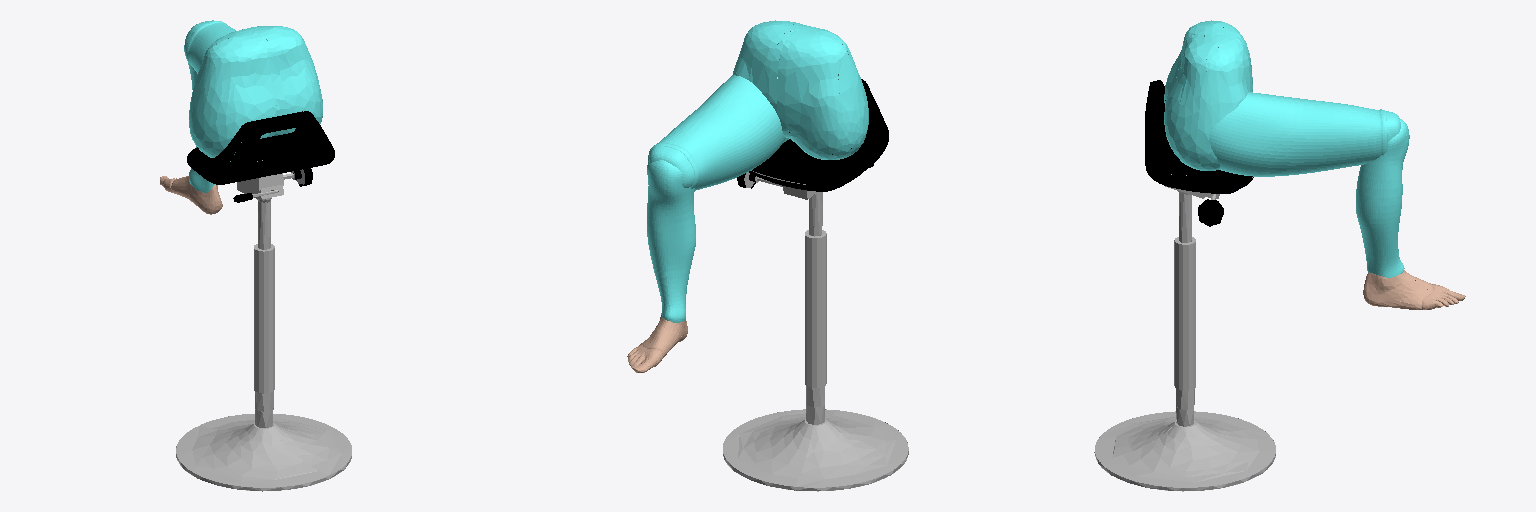
The robot description file, URDF, robot "leg_as_robot":
<?xml version="1.0" ?>
<!-- =================================================================================== -->
<!-- |    This document was autogenerated by xacro from leg.create.xacro               | -->
<!-- |    EDITING THIS FILE BY HAND IS NOT RECOMMENDED                                 | -->
<!-- =================================================================================== -->
<robot name="leg_as_robot" xmlns:xacro="http://www.ros.org/wiki/xacro">
  <!--[kg] -->
  <!-- r8_leg_foot_tip [m]-->
  <!-- [m]-->
  <!-- [m]-->
  <link name="virtual_platform_base_link"/>
  <link name="hip_base_link">
    <visual>
      <origin rpy="0 0 0" xyz="0 0 0"/>
      <geometry>
        <mesh filename="package://leg_as_robot/model/meshes/dae/leg_base_visual.dae"/>
      </geometry>
    </visual>
    <collision>
      <origin rpy="0 0 0" xyz="0 0 0"/>
      <geometry>
        <mesh filename="package://leg_as_robot/model/meshes/stl/leg_base_collision.stl"/>
      </geometry>
    </collision>
  </link>
  <link name="hip_adduction_link"/>
  <!-- virtual link-->
  <link name="hip_extension_link"/>
  <!-- virtual link-->
  <link name="hip_roll_link">
    <inertial>
      <origin rpy="0 0 0" xyz="0.00265863 -0.00827375 0.17215567"/>
      <mass value="12.0101"/>
      <!-- kg -->
      <inertia ixx="0.25495934" ixy="0.00092859" ixz="-0.00803351" iyy="0.25972836" iyz="0.00151866" izz="0.05431793"/>
    </inertial>
    <visual>
      <origin rpy="0 0 0" xyz="0 0 0"/>
      <geometry>
        <mesh filename="package://leg_as_robot/model/meshes/dae/thigh_visual.dae"/>
      </geometry>
    </visual>
    <collision>
      <origin rpy="0 0 0" xyz="0 0 0"/>
      <geometry>
        <mesh filename="package://leg_as_robot/model/meshes/stl/thigh_collision.stl"/>
      </geometry>
    </collision>
  </link>
  <link name="knee_extension_link">
    <inertial>
      <origin rpy="0 0 0" xyz="0.14893265 0.01010783 -0.00938572"/>
      <mass value="3.7931"/>
      <!-- kg -->
      <inertia ixx="0.00474593" ixy="0.00116322" ixz="0.00035670" iyy="0.04707968" iyz="0.00006150" izz="0.04724374"/>
    </inertial>
    <visual>
      <origin rpy="0 0 0" xyz="0 0 0"/>
      <geometry>
        <mesh filename="package://leg_as_robot/model/meshes/dae/shin_visual.dae"/>
      </geometry>
    </visual>
    <collision>
      <origin rpy="0 0 0" xyz="0 0 0"/>
      <geometry>
        <mesh filename="package://leg_as_robot/model/meshes/stl/shin_collision.stl"/>
      </geometry>
    </collision>
  </link>
  <link name="ankle_pitch_link"/>
  <!-- virtual link-->
  <link name="ankle_roll_link"/>
  <!-- virtual link-->
  <link name="ankle_yaw_link">
    <inertial>
      <origin rpy="0 0 0" xyz="-0.00089807 -0.04499748 -0.04201224"/>
      <mass value="1.1039"/>
      <!-- kg -->
      <inertia ixx="0.00322038" ixy="-0.00005516" ixz="0.00007652" iyy="0.00084882" iyz="0.00056936" izz="0.00297569"/>
    </inertial>
    <visual>
      <origin rpy="0 0 0" xyz="0 0 0"/>
      <geometry>
        <mesh filename="package://leg_as_robot/model/meshes/dae/foot_visual.dae"/>
      </geometry>
    </visual>
    <collision>
      <origin rpy="0 0 0" xyz="0 0 0"/>
      <geometry>
        <mesh filename="package://leg_as_robot/model/meshes/stl/foot_collision.stl"/>
      </geometry>
    </collision>
  </link>
  <link name="foot_base"/>
  <link name="foot_tip"/>
  <link name="virtual_pedal_tip"/>
  <joint name="hip_fixed" type="fixed">
    <origin rpy="0 0 0" xyz="0 -0.47046 0.9246"/>
    <!-- <origin xyz="0 -0.5100 0.9246" rpy="0 0 0"/> -->
    <parent link="virtual_platform_base_link"/>
    <child link="hip_base_link"/>
  </joint>
  <joint name="hip_adduction" type="revolute">
    <origin rpy="0 0 0" xyz="0 0 0"/>
    <parent link="hip_base_link"/>
    <child link="hip_adduction_link"/>
    <limit effort="30" lower="-0.767944870878" upper="0.0" velocity="10.0"/>
    <axis xyz="0 0 1"/>
  </joint>
  <joint name="hip_extension" type="revolute">
    <origin rpy="1.57079632679 0 1.57079632679" xyz="0 0 0"/>
    <parent link="hip_adduction_link"/>
    <child link="hip_extension_link"/>
    <limit effort="30" lower="-0.0872664625997" upper="0.558505360638" velocity="10.0"/>
    <axis xyz="0 0 1"/>
  </joint>
  <joint name="hip_roll" type="revolute">
    <origin rpy="1.57079632679 0 1.57079632679" xyz="0 0 0"/>
    <parent link="hip_extension_link"/>
    <child link="hip_roll_link"/>
    <limit effort="30" lower="-0.575958653158" upper="0.575958653158" velocity="10.0"/>
    <axis xyz="0 0 1"/>
  </joint>
  <joint name="knee_extension" type="revolute">
    <origin rpy="-1.57079632679 0 3.14159265359" xyz="0 0 0.43"/>
    <parent link="hip_roll_link"/>
    <child link="knee_extension_link"/>
    <limit effort="30" lower="-1.57079632679" upper="0.523598775598" velocity="10.0"/>
    <axis xyz="0 0 1"/>
  </joint>
  <joint name="ankle_pitch" type="revolute">
    <origin rpy="3.14159265359 0 3.14159265359" xyz="0.38 0 0"/>
    <parent link="knee_extension_link"/>
    <child link="ankle_pitch_link"/>
    <limit effort="30" lower="-0.799360797413" upper="0.520108117094" velocity="10.0"/>
    <axis xyz="0 0 1"/>
  </joint>
  <joint name="ankle_roll" type="revolute">
    <origin rpy="1.57079632679 0 0" xyz="0 0 0"/>
    <parent link="ankle_pitch_link"/>
    <child link="ankle_roll_link"/>
    <limit effort="30" lower="-0.296705972839" upper="0.383972435439" velocity="10.0"/>
    <axis xyz="0 0 1"/>
  </joint>
  <joint name="ankle_yaw" type="revolute">
    <origin rpy="-1.57079632679 0 -1.57079632679" xyz="0 0 0"/>
    <parent link="ankle_roll_link"/>
    <child link="ankle_yaw_link"/>
    <limit effort="30" lower="-0.452040276267" upper="0.628318530718" velocity="10.0"/>
    <axis xyz="0 0 1"/>
  </joint>
  <joint name="fixed_foot_base" type="fixed">
    <origin rpy="0 0 -1.57079632679" xyz="0 -0.04046 -0.08"/>
    <parent link="ankle_yaw_link"/>
    <child link="foot_base"/>
  </joint>
  <joint name="fixed_foot_tip" type="fixed">
    <origin rpy="0 0 0" xyz="0.15621 0 0"/>
    <parent link="foot_base"/>
    <child link="foot_tip"/>
  </joint>
  <joint name="fixed_pedal_tip" type="fixed">
    <origin rpy="0 0 0" xyz="0.05279 0 0"/>
    <parent link="foot_tip"/>
    <child link="virtual_pedal_tip"/>
  </joint>
</robot>

--- Facts derived from the render (not from the file) ---
Views: 3 orthographic renders of the robot side by side, from view 1: azimuth 30°, elevation 25°; view 2: azimuth 150°, elevation 25°; view 3: azimuth 270°, elevation 25°.
Model leg_as_robot with 12 links and 11 joints (7 revolute, 4 fixed), rooted at virtual_platform_base_link, posed every joint at zero.
Visible links, largest first — view 1: hip_base_link, hip_roll_link, ankle_yaw_link; view 2: hip_base_link, hip_roll_link, knee_extension_link, ankle_yaw_link; view 3: hip_base_link, hip_roll_link, knee_extension_link, ankle_yaw_link.
Boxes of the visible links, <box> form: hip_base_link: <box>176,26,351,491</box>; hip_roll_link: <box>184,20,286,105</box>; ankle_yaw_link: <box>160,176,222,214</box>; hip_base_link: <box>723,20,908,491</box>; hip_roll_link: <box>648,75,788,190</box>; knee_extension_link: <box>647,160,695,322</box>; ankle_yaw_link: <box>627,315,687,372</box>; hip_base_link: <box>1094,20,1275,491</box>; hip_roll_link: <box>1202,92,1400,176</box>; knee_extension_link: <box>1356,119,1409,277</box>; ankle_yaw_link: <box>1363,270,1465,309</box>.
Size in the robot's own frame: 0.4501 by 0.9208 by 1.15 metres.
4 mesh visuals loaded from 4 distinct referenced files (4 Collada DAE).
